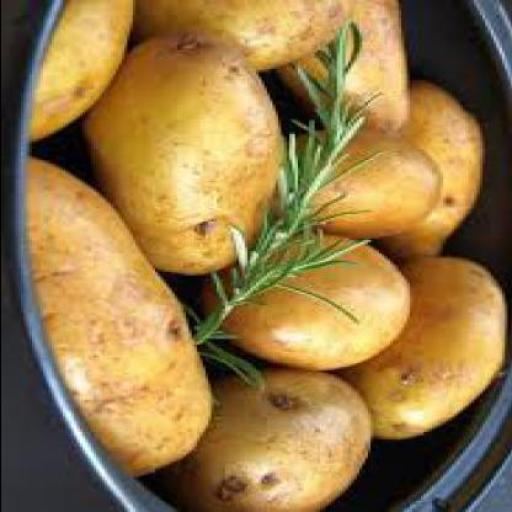biodegradable: (190, 21, 384, 393), (28, 151, 216, 478), (87, 30, 282, 274), (154, 369, 380, 510), (341, 253, 509, 437), (196, 231, 414, 367), (375, 76, 487, 255), (266, 0, 411, 138), (294, 124, 442, 236), (130, 0, 358, 71), (29, 0, 138, 144)
